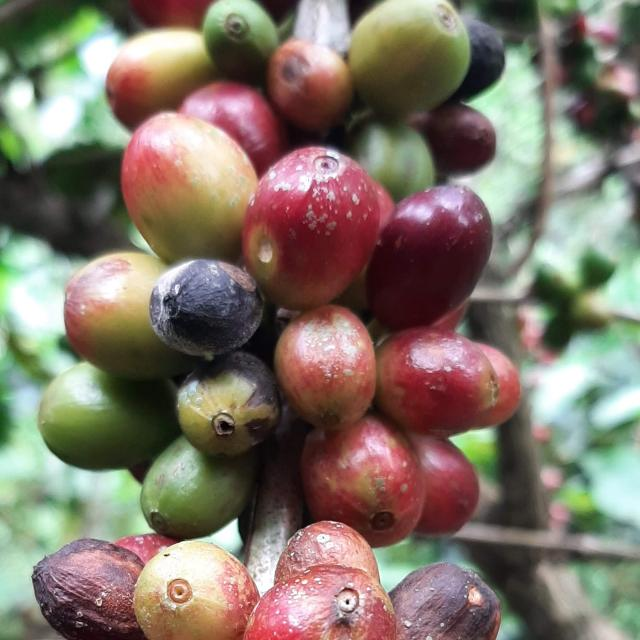green: (36, 362, 180, 471), (140, 436, 258, 540), (351, 121, 436, 201), (202, 0, 278, 80)
red: (367, 185, 493, 330), (32, 540, 147, 640), (149, 259, 264, 357), (177, 351, 280, 457), (179, 81, 287, 174), (390, 564, 502, 640), (407, 102, 497, 174), (450, 15, 506, 101), (94, 599, 102, 608)
yellow: (242, 146, 380, 311), (120, 111, 258, 262), (63, 252, 195, 381), (301, 414, 426, 548), (375, 327, 522, 438), (274, 305, 376, 431), (133, 542, 259, 640), (243, 565, 396, 640), (105, 27, 217, 129), (267, 37, 354, 132), (406, 431, 480, 536), (275, 522, 380, 585), (476, 343, 522, 428)
